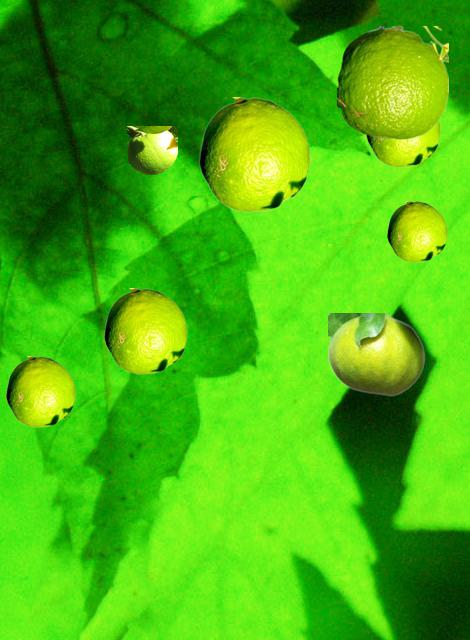dalandan: (199, 97, 309, 211), (337, 26, 447, 138), (328, 313, 424, 395), (104, 288, 186, 373), (6, 356, 74, 426), (387, 201, 446, 261), (366, 121, 439, 166), (127, 126, 176, 173)
